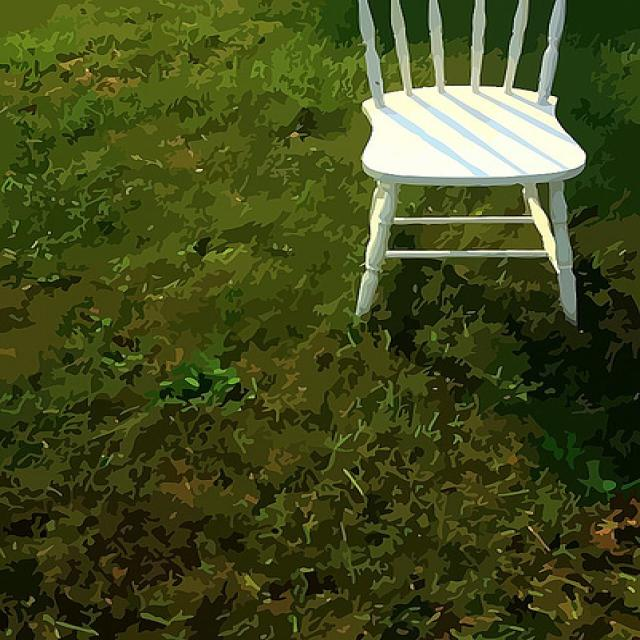chair: (353, 0, 587, 329)
